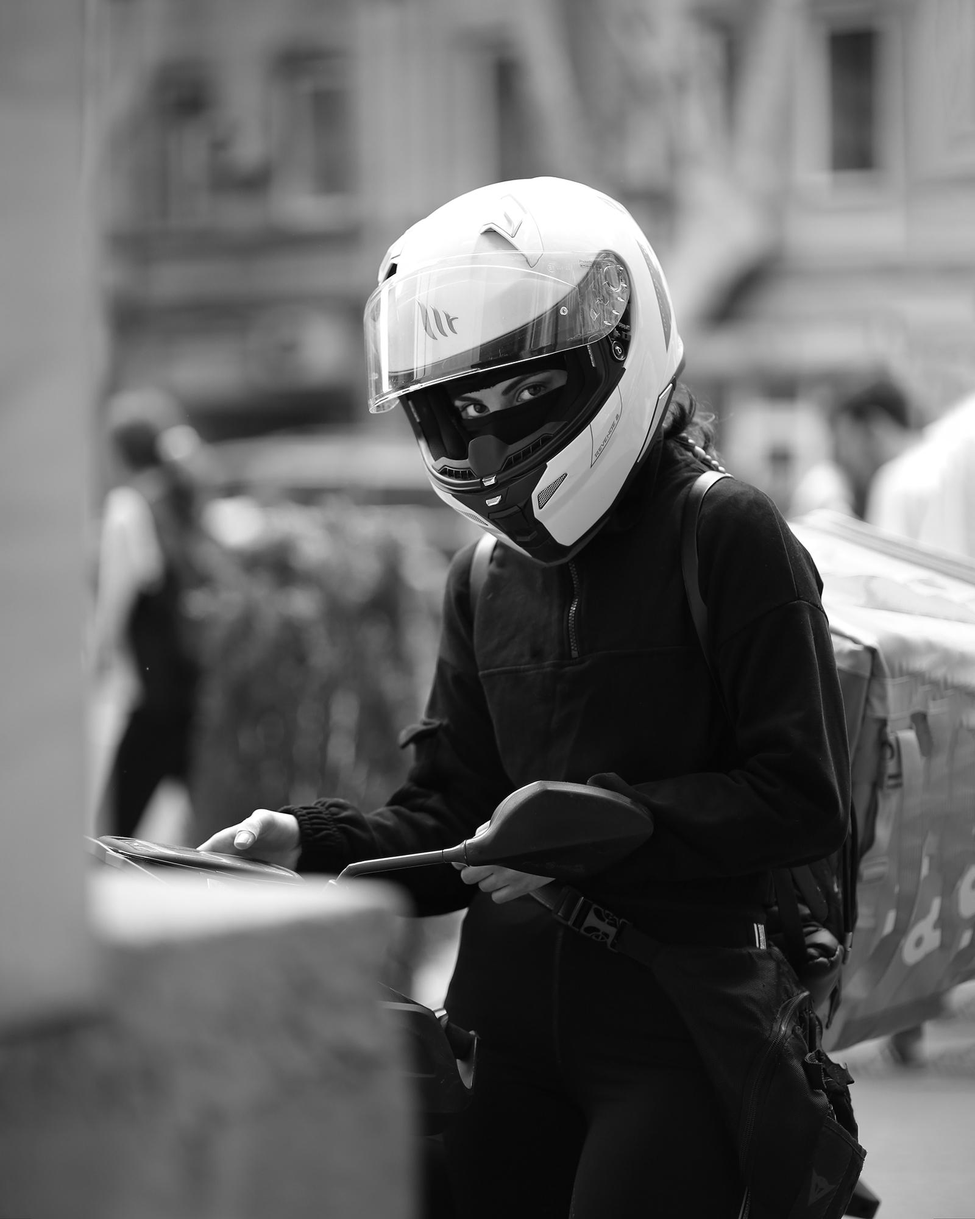helmet: (361, 173, 688, 570)
